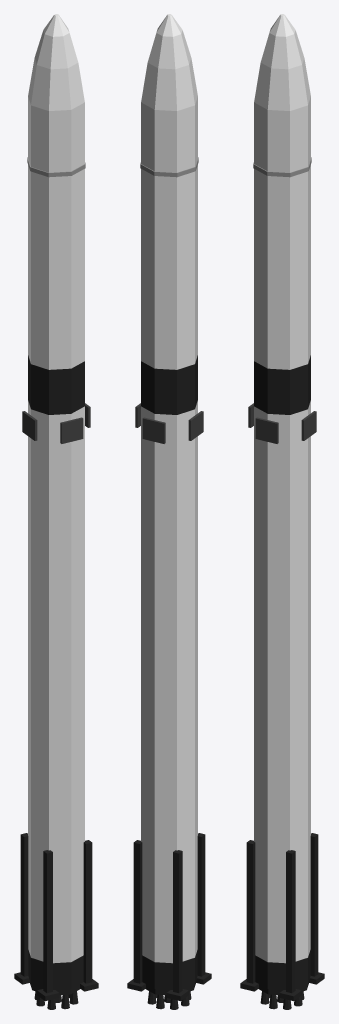
File: falcon-blockbench.fbx
The picture shows the model from 3 angles, left to right: view 1: azimuth 30°, elevation 25°; view 2: azimuth 150°, elevation 25°; view 3: azimuth 330°, elevation 25°; orthographic projection.
Parts seen in each view (by area): view 1: p11, p13, p15, p12, p16, p27, p23, p10, p29, p17, p20, p18 (+2 smaller); view 2: p11, p13, p15, p12, p16, p29, p25, p10, p27, p17, p22, p18 (+2 smaller); view 3: p11, p13, p15, p12, p16, p23, p27, p10, p25, p17, p20, p18 (+2 smaller).
Boxes of the visible parts, x1,y1,x2,y2 form: p11: (28,400,84,963); p13: (28,165,84,369); p15: (28,96,84,172); p12: (28,355,84,414); p16: (28,58,84,110); p27: (43,850,52,993); p23: (83,840,92,983); p10: (28,950,83,989); p29: (20,833,28,976); p17: (34,30,78,69); p20: (60,417,83,443); p18: (43,14,69,36); p11: (141,400,197,963); p13: (141,165,197,369); p15: (141,96,197,172); p12: (141,355,197,414); p16: (141,58,197,110); p29: (173,850,182,993); p25: (133,840,142,983); p10: (142,950,197,989); p27: (197,833,205,976); p17: (147,30,191,69); p22: (142,417,165,443); p18: (156,14,182,36); p11: (254,400,310,963); p13: (254,165,310,369); p15: (254,96,310,172); p12: (254,355,310,414); p16: (254,58,310,110); p23: (286,850,295,993); p27: (246,840,255,983); p10: (255,950,310,989); p25: (310,833,318,976); p17: (260,30,304,69); p20: (255,417,278,443); p18: (269,14,295,36).
Bounding box in the file's own units: 142 × 2400 × 142.
Materials: 1 (1 with a texture image).
